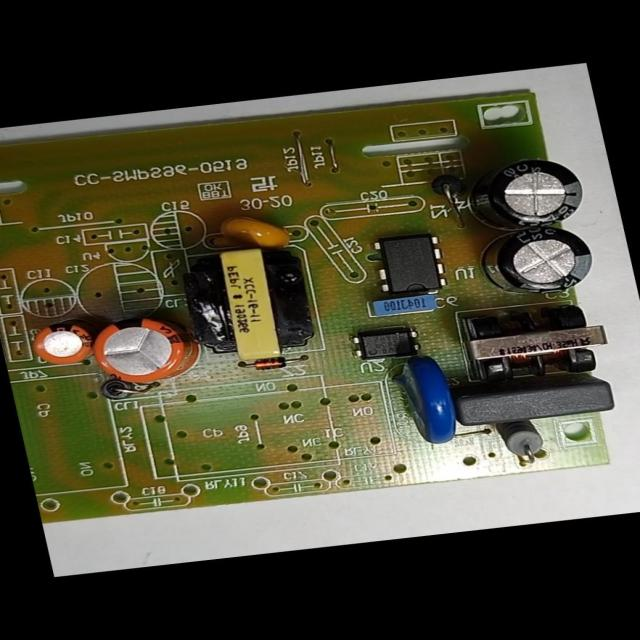Cap1: (82, 308, 206, 392)
Cap2: (23, 315, 99, 370)
Cap3: (466, 218, 604, 304)
Cap4: (454, 150, 594, 238)
MOSFET: (364, 228, 454, 302)
Mov: (383, 349, 473, 450)
Resistor: (491, 417, 559, 473)
Transformer: (176, 239, 325, 368), (454, 294, 618, 386)
